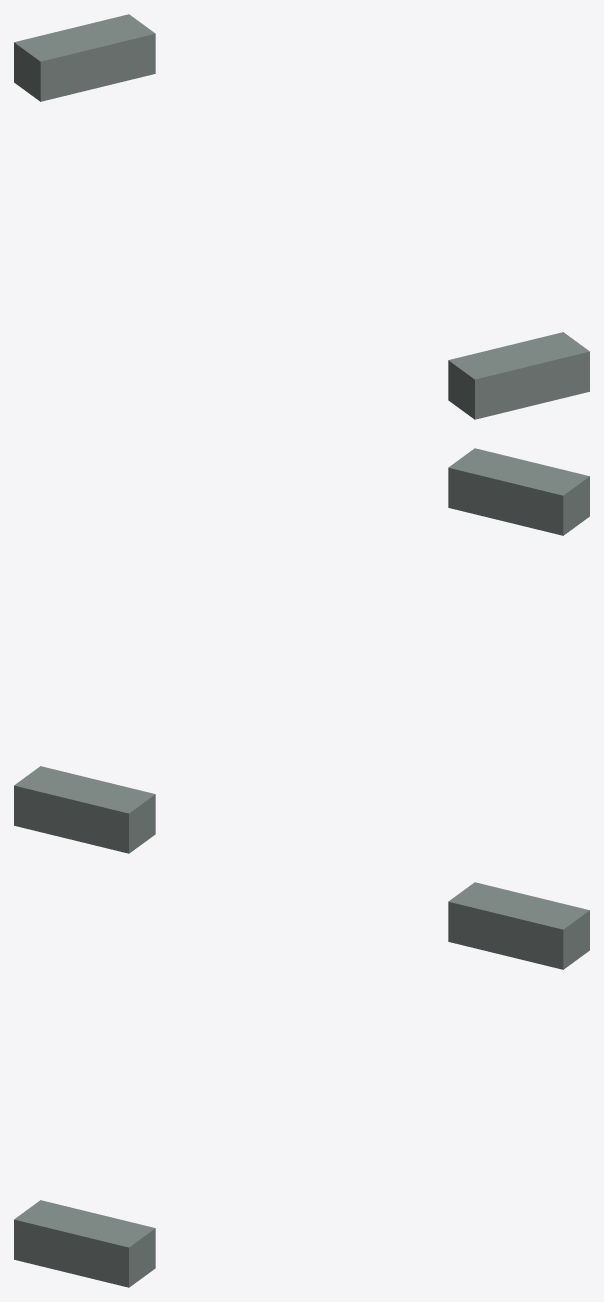
The model's file is DoorHandles.glb.
The picture shows the model from 3 angles, top to bottom: view 1: azimuth 30°, elevation 25°; view 2: azimuth 150°, elevation 25°; view 3: azimuth 330°, elevation 25°; orthographic projection.
Visible parts, largest first — view 1: Cube.081; view 2: Cube.081; view 3: Cube.081.
Boxes of the visible parts, bbox=[...] form: Cube.081: bbox=[14, 14, 589, 419]; Cube.081: bbox=[14, 448, 589, 853]; Cube.081: bbox=[14, 882, 589, 1287].
Bounding box in the file's own units: 0.00968 × 0.00323 × 0.0671.
1 material, 1 textured.
